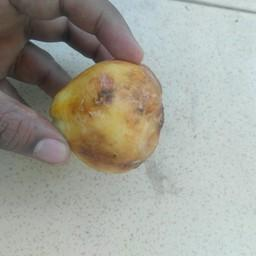Bad_lime: (48, 55, 167, 172)
